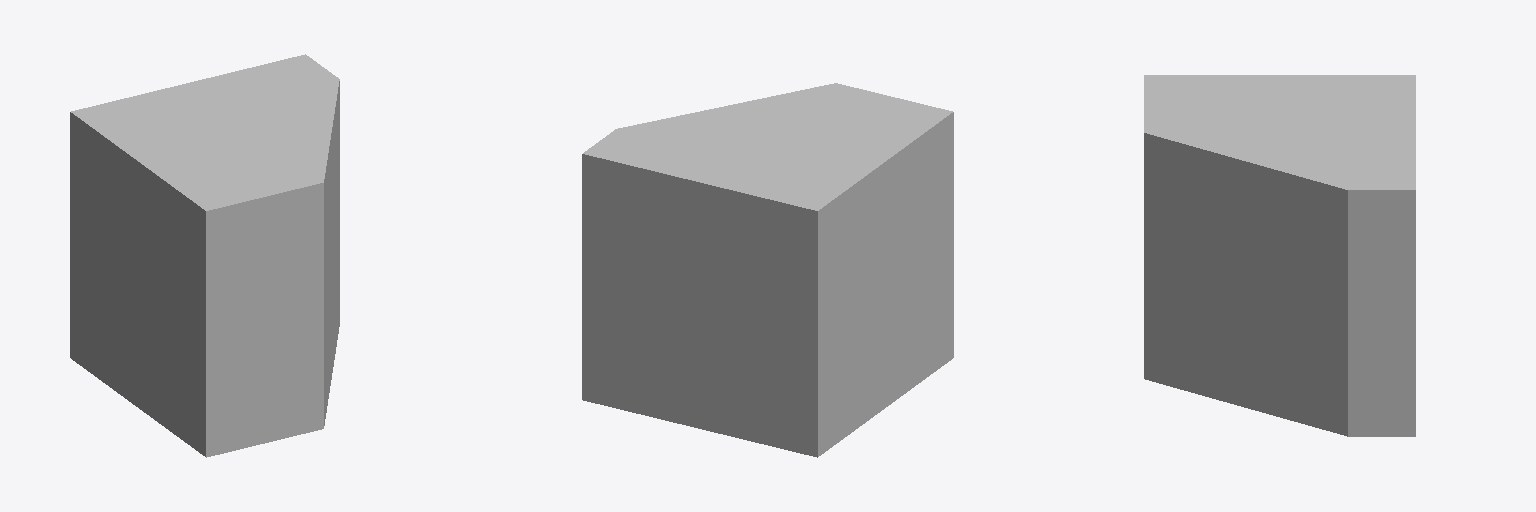
Rendered from E3-Anl01-p02.obj.
The picture shows the model from 3 angles: view 1: azimuth 30°, elevation 25°; view 2: azimuth 150°, elevation 25°; view 3: azimuth 270°, elevation 25°; orthographic projection.
Parts seen in each view (by area): view 1: mesh6, mesh5, mesh3, mesh4; view 2: mesh0, mesh6, mesh3; view 3: mesh4, mesh3, mesh1.
Part boxes in pixels (x1,y1,x2,y2): mesh6: (70, 112, 205, 456); mesh5: (206, 183, 323, 457); mesh3: (71, 54, 339, 210); mesh4: (324, 81, 339, 425); mesh0: (582, 154, 817, 457); mesh6: (818, 112, 953, 456); mesh3: (583, 83, 952, 210); mesh4: (1144, 133, 1347, 436); mesh3: (1144, 75, 1415, 189); mesh1: (1348, 190, 1415, 436).
Size of the model in its own units: 0.02 by 0.02 by 0.02.